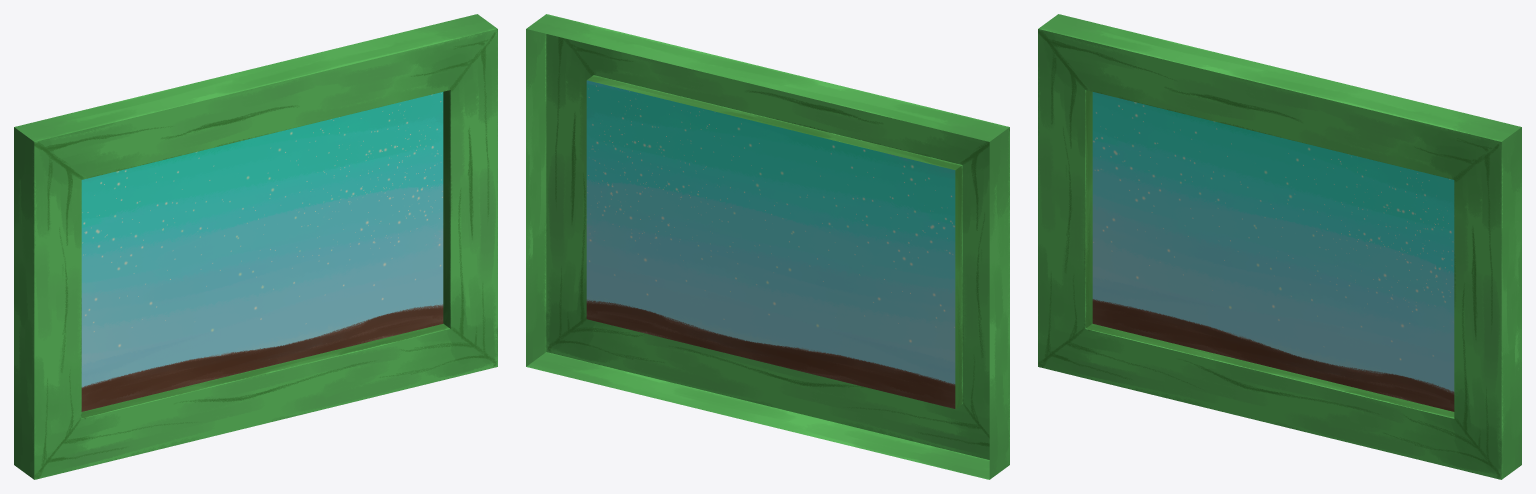
The model's file is Frame01.FBX.
The picture shows the model from 3 angles, left to right: view 1: azimuth 30°, elevation 25°; view 2: azimuth 150°, elevation 25°; view 3: azimuth 330°, elevation 25°; orthographic projection.
Visible parts, largest first — view 1: Frame01; view 2: Frame01; view 3: Frame01.
Part boxes in pixels (bbox=[...]): Frame01: bbox=[14, 14, 497, 479]; Frame01: bbox=[526, 14, 1009, 479]; Frame01: bbox=[1038, 14, 1521, 479].
Size of the model in its own units: 53.64 by 37.39 by 4.08.
